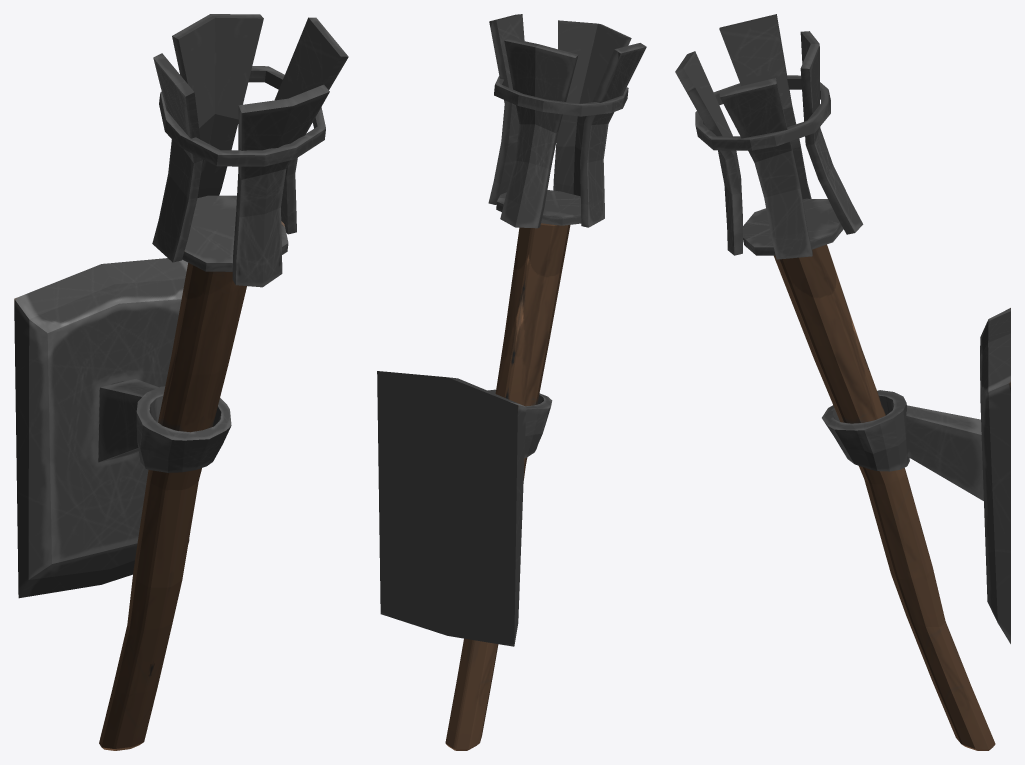
The model's file is torch.fbx.
3 views of the same model, side by side, from view 1: azimuth 30°, elevation 25°; view 2: azimuth 150°, elevation 25°; view 3: azimuth 270°, elevation 25° (orthographic). The views are drawn at different scales.
Visible parts, largest first — view 1: Cube; view 2: Cube; view 3: Cube.
Boxes of the visible parts, x1,y1,x2,y2 form: Cube: (14, 14, 348, 750); Cube: (377, 14, 646, 750); Cube: (675, 14, 1010, 750).
Size of the model in its own units: 79.33 by 347 by 150.
